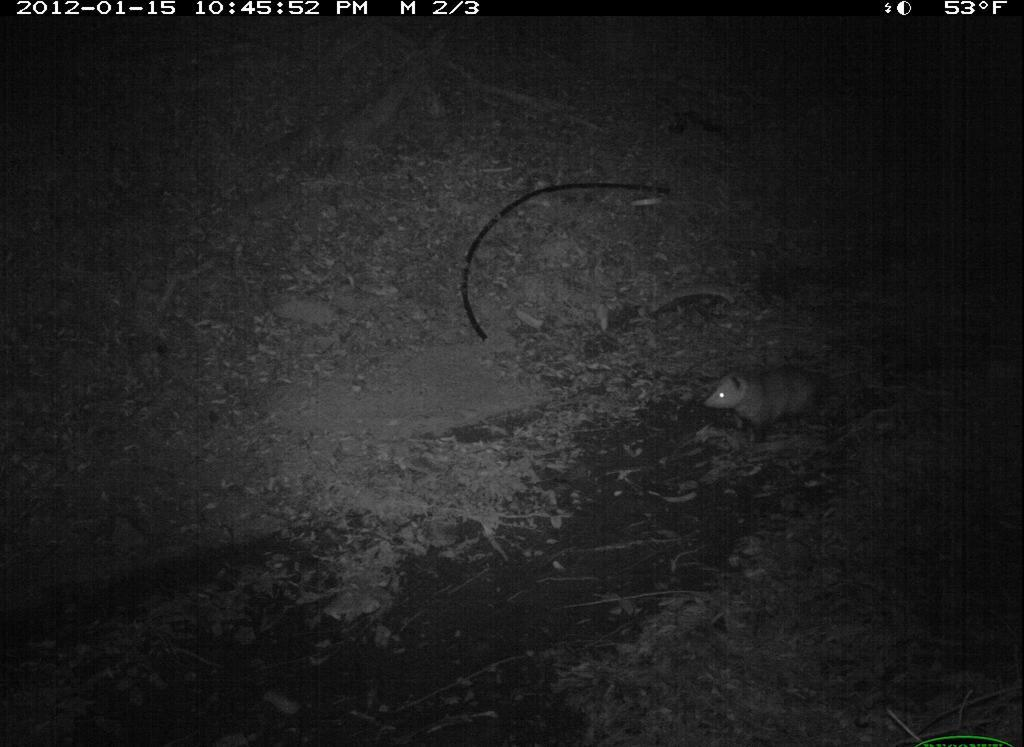opossum: (703, 333, 862, 447)
